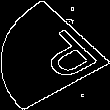P_SE: (13, 24, 97, 86)
